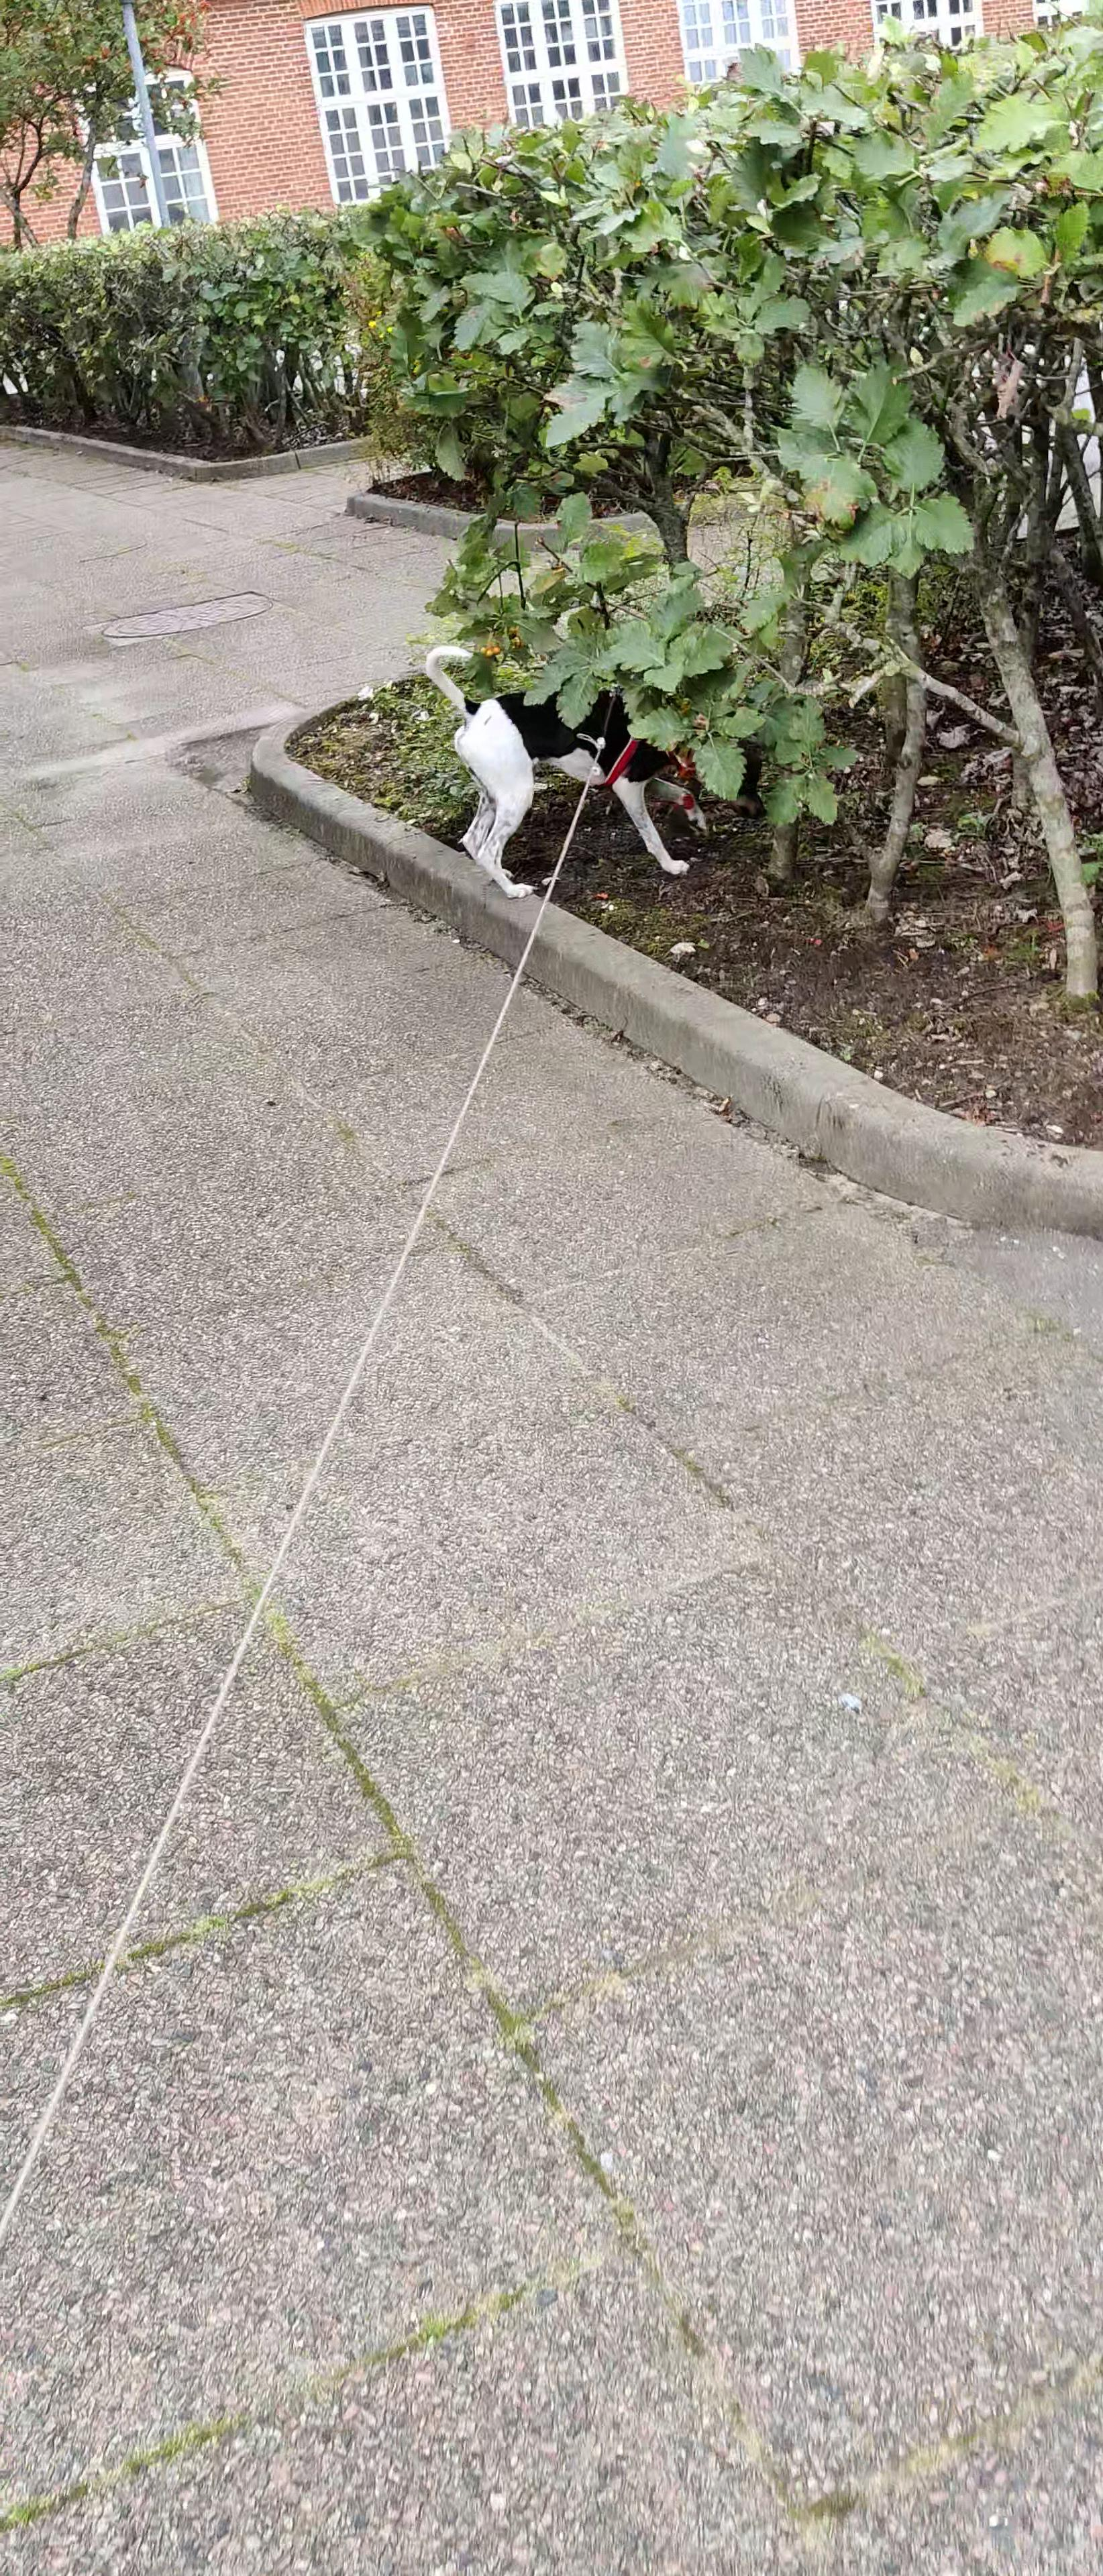Dog: (416, 632, 776, 904)
